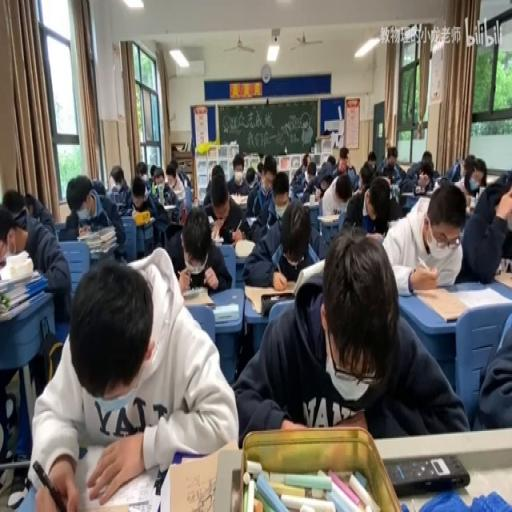calculator: (164, 441, 238, 512), (83, 456, 160, 508), (243, 282, 292, 314), (454, 284, 509, 310), (179, 286, 216, 307), (212, 302, 238, 322), (493, 268, 512, 292), (234, 238, 256, 258), (90, 244, 115, 258), (164, 222, 182, 237), (318, 213, 340, 225), (132, 215, 154, 226), (229, 194, 248, 206), (108, 189, 122, 205), (389, 183, 399, 202), (300, 198, 319, 206), (400, 190, 418, 198), (114, 202, 126, 213), (211, 234, 224, 244), (246, 214, 258, 224), (433, 176, 443, 188), (485, 175, 499, 183), (162, 204, 176, 210), (424, 189, 435, 196), (208, 214, 214, 224)
paper: (30, 248, 238, 509), (234, 228, 464, 444), (0, 194, 70, 327), (382, 178, 462, 288), (242, 190, 323, 286), (60, 172, 129, 267), (164, 201, 230, 290), (472, 303, 512, 431), (342, 170, 400, 232), (141, 168, 174, 230), (450, 156, 484, 205), (402, 149, 438, 189), (224, 152, 250, 196), (378, 145, 404, 184), (331, 145, 354, 182), (2, 189, 28, 219), (309, 168, 331, 203), (288, 156, 308, 194), (176, 182, 195, 220), (172, 159, 190, 189), (108, 164, 126, 194), (130, 178, 146, 209), (273, 175, 289, 200), (358, 162, 372, 189), (90, 178, 106, 198), (134, 159, 148, 181), (336, 181, 350, 202), (244, 165, 256, 189), (210, 162, 224, 179), (154, 175, 164, 188), (166, 174, 175, 186), (327, 155, 336, 165), (256, 161, 262, 176), (150, 162, 156, 175), (308, 169, 314, 182), (368, 158, 375, 169), (348, 165, 355, 173), (302, 160, 307, 170)
person: (385, 452, 470, 496)
